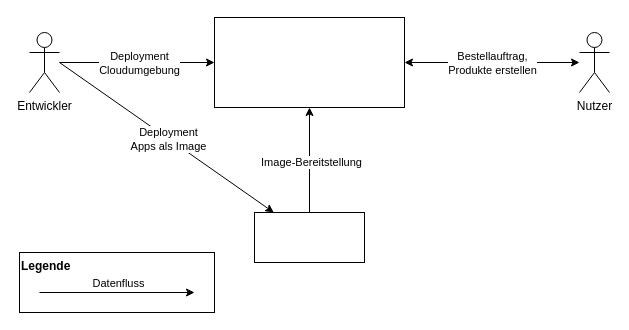
This 629x330 diagram has some shape labels left out. The shapes that lost their labels are listed below. From the top down, each one's centre as x and y in pixels, then its label:
At point (309, 62): "Cloud-Pizzasystem".
At point (309, 237): "Container Registry".
